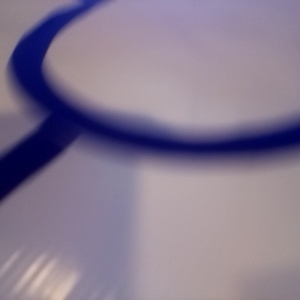bottom_right: (137, 29, 241, 66)
top_right: (140, 9, 226, 38)
